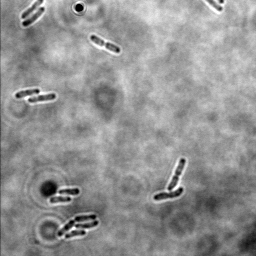Dividing: (166, 157, 187, 191), (89, 34, 122, 55), (152, 186, 185, 202), (20, 1, 44, 20)
Microcolony: (56, 212, 100, 240)
Rod: (21, 6, 45, 27), (25, 92, 58, 105), (13, 86, 40, 99), (57, 186, 81, 197), (48, 195, 73, 205)
